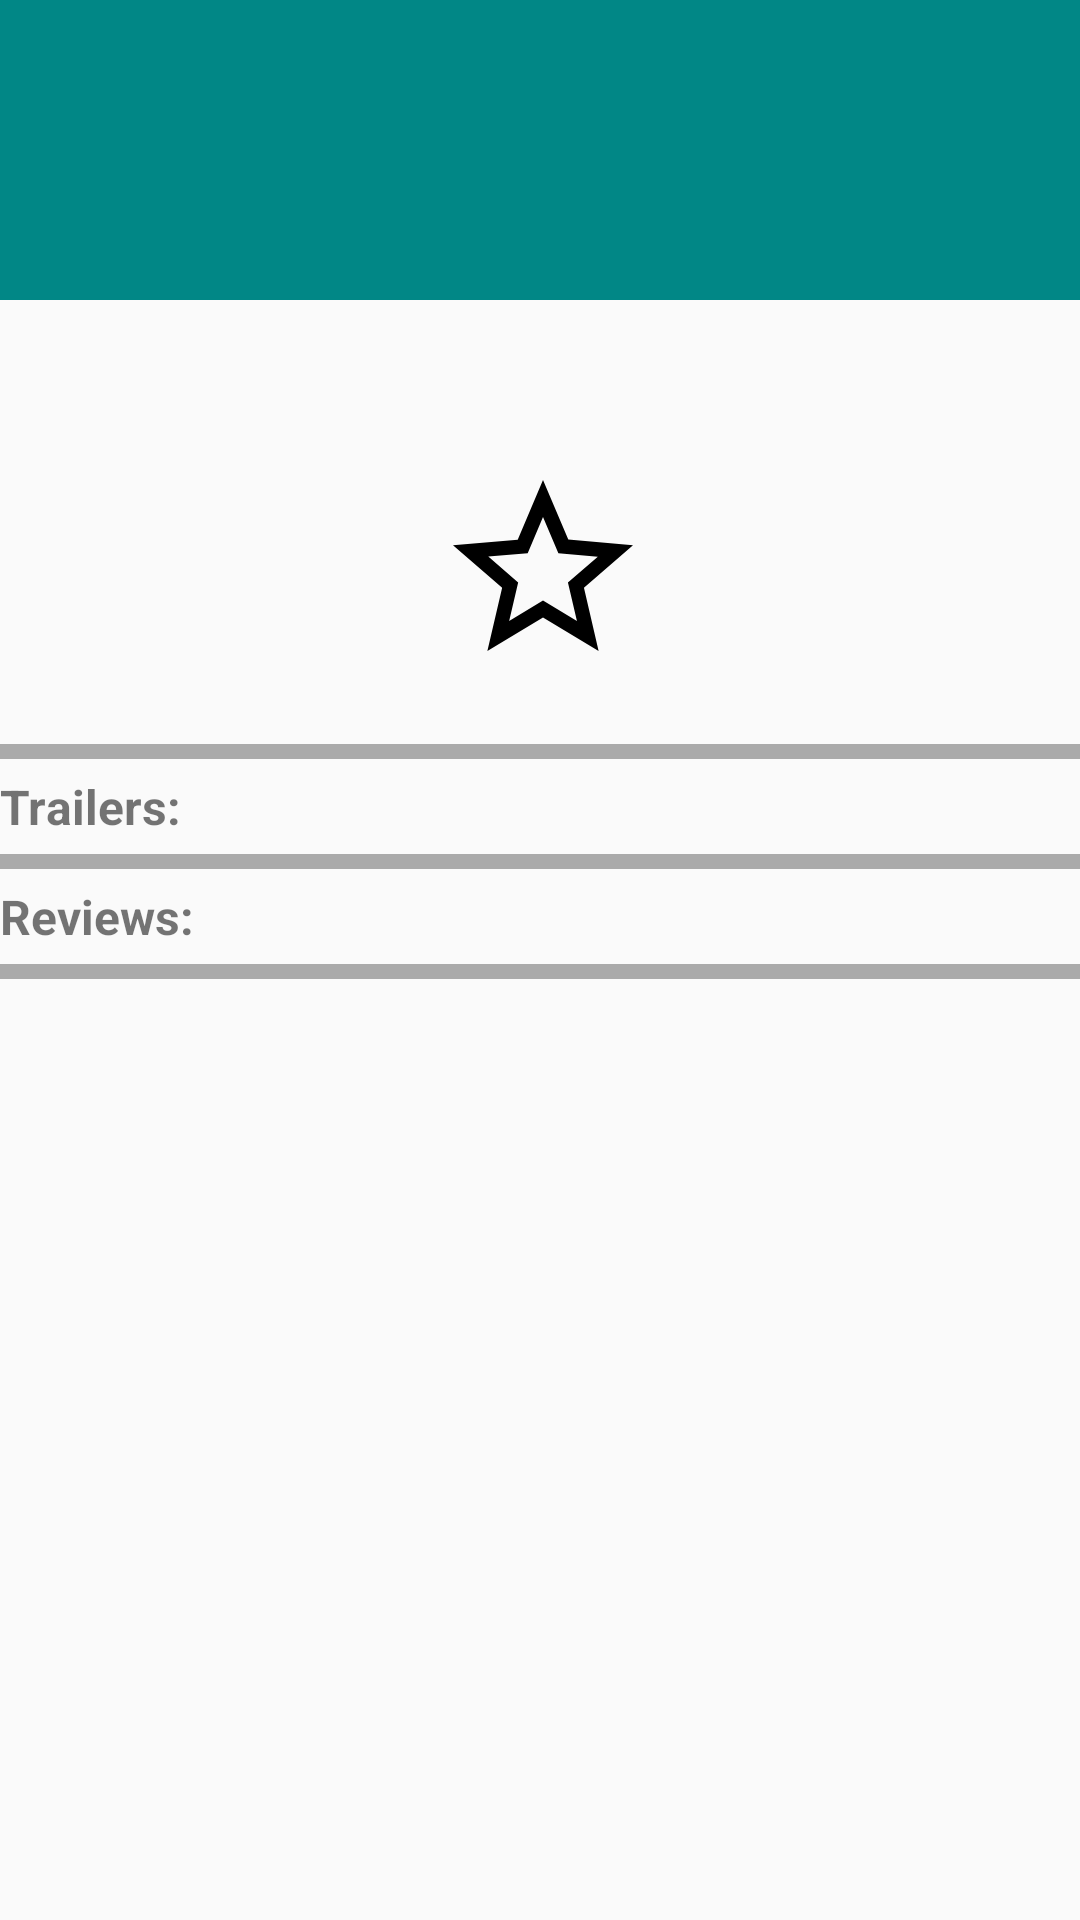

Icon click points for this 1080x1920 phone screenshot, format [x,y]:
star border: [543,565]
